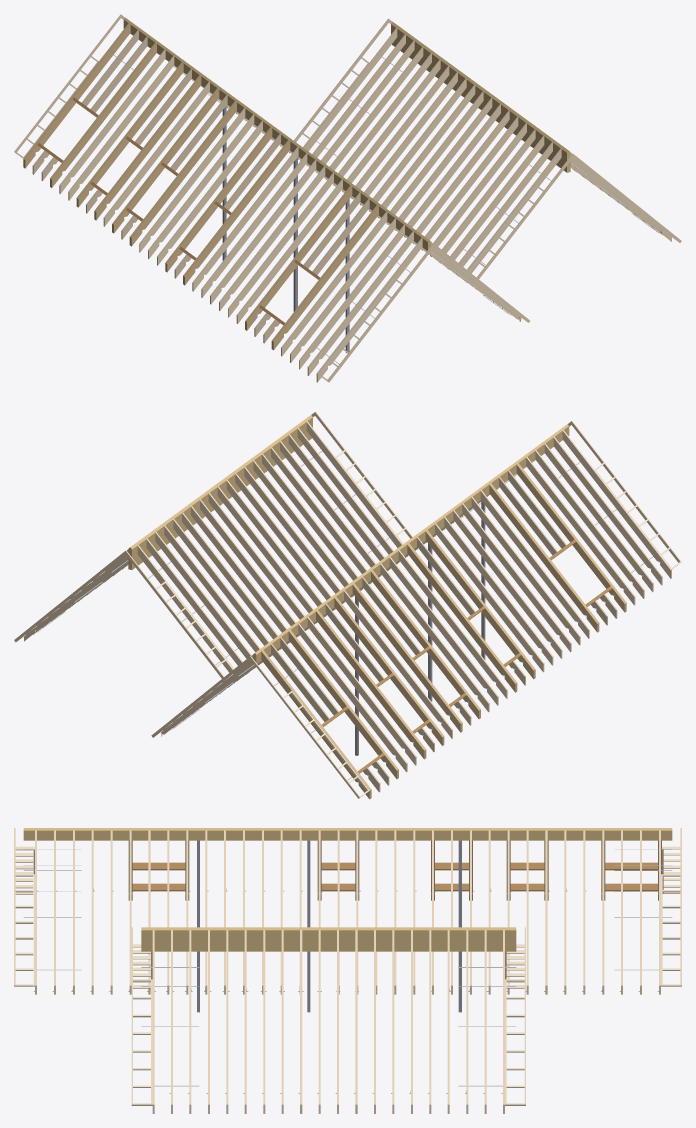
File: stage-5.glb
3 views of the same model, one above another, from view 1: azimuth 30°, elevation 25°; view 2: azimuth 150°, elevation 25°; view 3: azimuth 270°, elevation 25° (orthographic). The views are drawn at different scales.
Parts seen in each view (by area): view 1: Geom3D_R12 common 63 x 220 C24 L5204, Geom3D_Ply 1 (×2), Geom3D_GB01 ridge beam 120 x 400 GL24h L20745, Geom3D_CP52 cripple 63 x 220 C24 L689, Geom3D_LR88 ladder rail 47 x 97 C24 L3680, Geom3D_Ridge post 100x100x8 SHS y 5580, Geom3D_OR89 outrigger 47 x 97 C24 L558; view 2: Geom3D_R12 common 63 x 220 C24 L5204, Geom3D_Ply 1 (×2), Geom3D_GB01 ridge beam 120 x 400 GL24h L20745, Geom3D_CP52 cripple 63 x 220 C24 L689, Geom3D_LR88 ladder rail 47 x 97 C24 L3680, Geom3D_Ridge post 100x100x8 SHS y 5580, Geom3D_OR89 outrigger 47 x 97 C24 L558, Geom3D_TCP50 clip; view 3: Geom3D_R12 common 63 x 220 C24 L5204, Geom3D_GB01 ridge beam 120 x 400 GL24h L20745, Geom3D_Ply 1 (×2), Geom3D_OR89 outrigger 47 x 97 C24 L558, Geom3D_Ridge post 100x100x8 SHS y 5580, Geom3D_TCP50 clip, Geom3D_LR88 ladder rail 47 x 97 C24 L3680.
Part boxes in pixels (x1,y1,x2,y2): Geom3D_R12 common 63 x 220 C24 L5204: (14,14,681,382); Geom3D_Ply 1 (×2): (23,23,378,350); Geom3D_GB01 ridge beam 120 x 400 GL24h L20745: (123,17,570,250); Geom3D_CP52 cripple 63 x 220 C24 L689: (32,30,369,343); Geom3D_LR88 ladder rail 47 x 97 C24 L3680: (23,61,670,374); Geom3D_Ridge post 100x100x8 SHS y 5580: (222,106,349,353); Geom3D_OR89 outrigger 47 x 97 C24 L558: (15,55,676,380); Geom3D_R12 common 63 x 220 C24 L5204: (14,411,681,798); Geom3D_Ply 1 (×2): (261,463,626,799); Geom3D_GB01 ridge beam 120 x 400 GL24h L20745: (128,415,569,663); Geom3D_CP52 cripple 63 x 220 C24 L689: (271,470,617,792); Geom3D_LR88 ladder rail 47 x 97 C24 L3680: (26,456,671,790); Geom3D_Ridge post 100x100x8 SHS y 5580: (355,501,485,755); Geom3D_OR89 outrigger 47 x 97 C24 L558: (18,450,680,797); Geom3D_TCP50 clip: (37,446,660,782); Geom3D_R12 common 63 x 220 C24 L5204: (14,828,681,1113); Geom3D_GB01 ridge beam 120 x 400 GL24h L20745: (23,828,672,951); Geom3D_Ply 1 (×2): (128,840,661,900); Geom3D_OR89 outrigger 47 x 97 C24 L558: (15,846,680,1105); Geom3D_Ridge post 100x100x8 SHS y 5580: (197,840,461,1012); Geom3D_TCP50 clip: (23,849,672,1093); Geom3D_LR88 ladder rail 47 x 97 C24 L3680: (33,846,663,1105).
Bounding box in the file's own units: 15.66 × 6.36 × 20.75.
